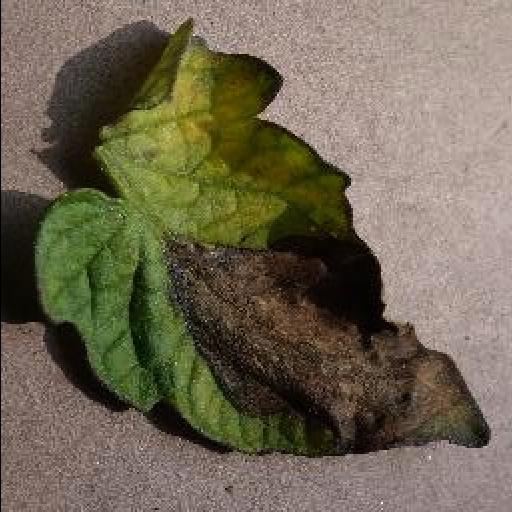disease_tomato: (38, 20, 494, 462)
